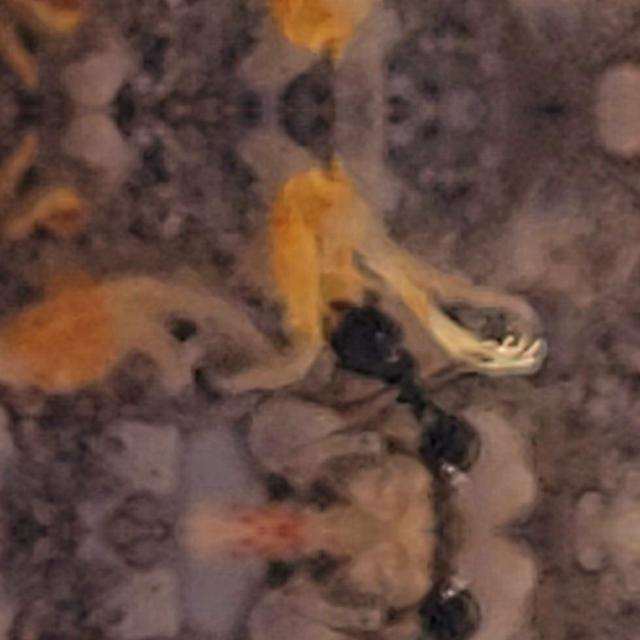Messor: (292, 297, 506, 473), (292, 587, 506, 640)
